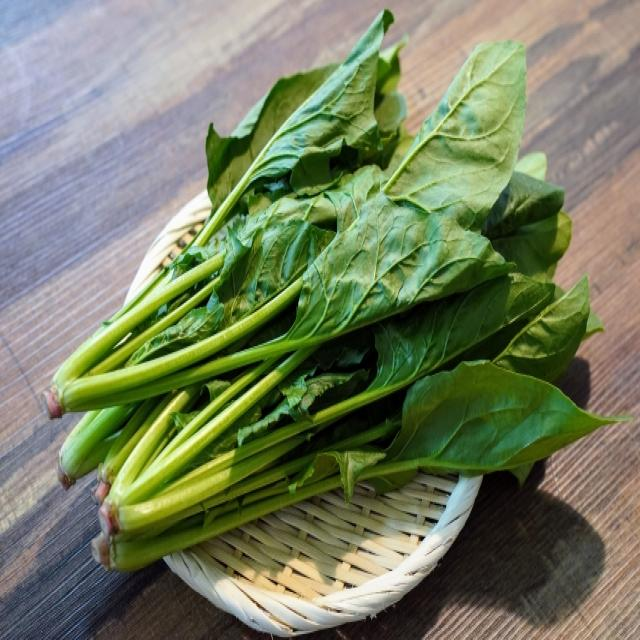Wet Waste: (36, 5, 640, 417), (97, 207, 640, 540)
